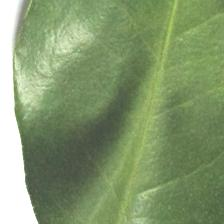healthy: (13, 0, 224, 224)
